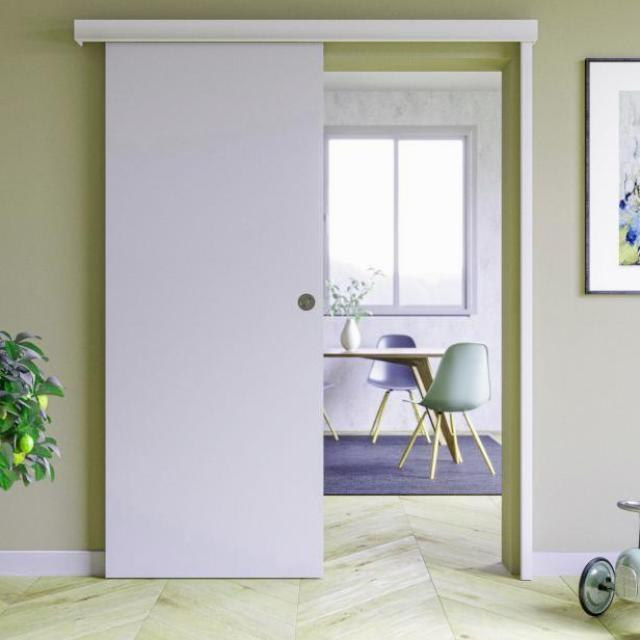door: (103, 42, 326, 579)
